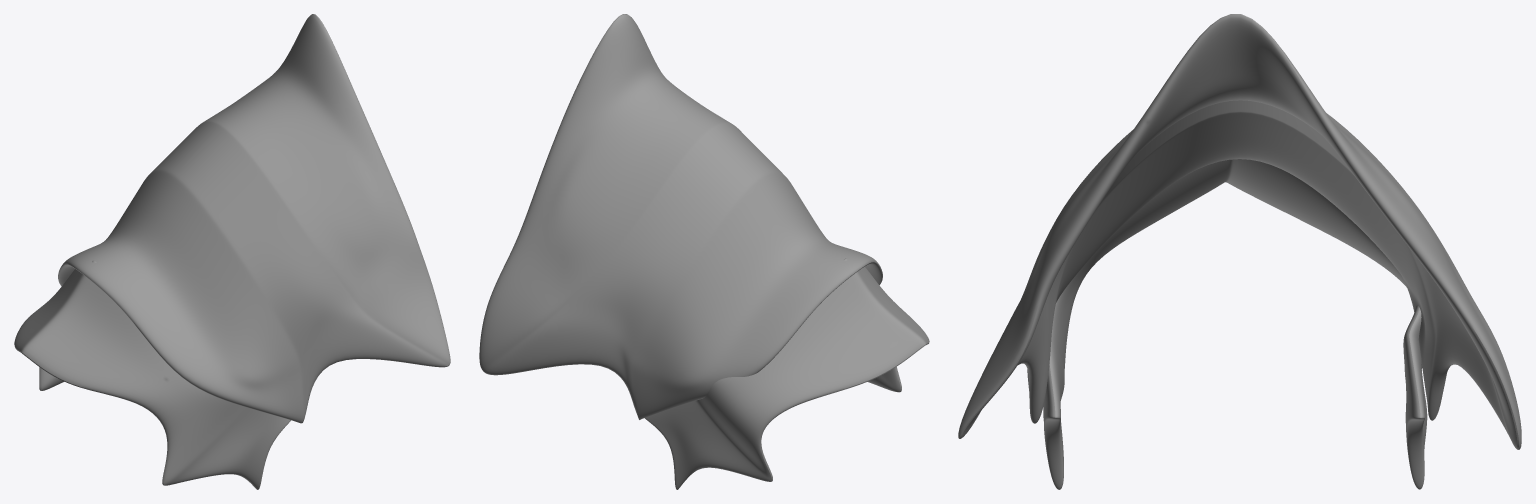
Rendered from ShoulderLarmor.fbx.
3 views of the same model, side by side, from view 1: azimuth 30°, elevation 25°; view 2: azimuth 150°, elevation 25°; view 3: azimuth 270°, elevation 25° (orthographic). The views are drawn at different scales.
Visible parts, largest first — view 1: Cube.007; view 2: Cube.007; view 3: Cube.007.
Part boxes in pixels (x1,y1,x2,y2): Cube.007: [14, 14, 450, 489]; Cube.007: [479, 14, 929, 489]; Cube.007: [958, 14, 1521, 489].
Size of the model in its own units: 193 by 215 by 197.
1 material, 1 textured.
